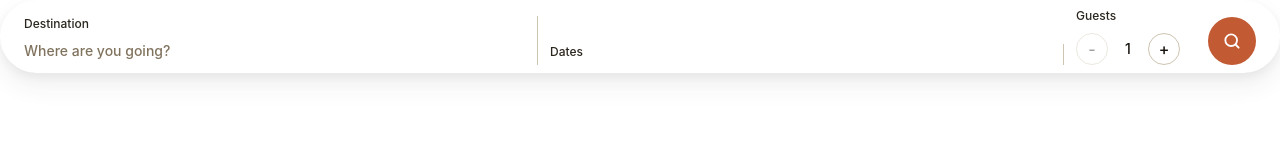
Scenario: SearchBar › guests: minus button decreases guests count
The image size is (1280, 160).
Click the button with test id "guests-increase".
click(1164, 49)  # box 1148,33 -> 1180,65
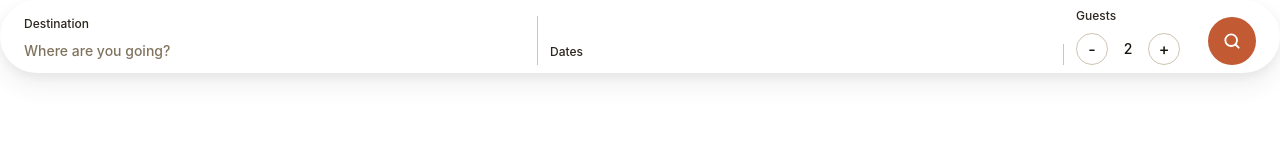
Click the button with test id "guests-decrease".
click(1092, 49)  # box 1076,33 -> 1108,65
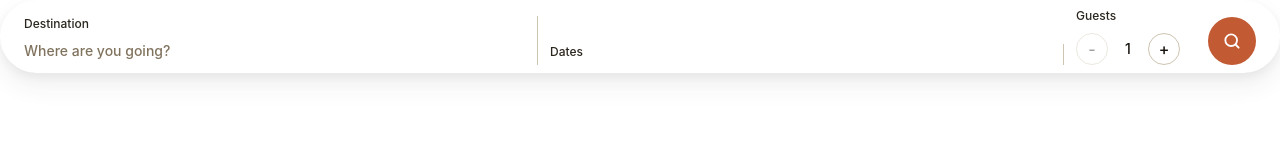
Expected: the text with test id "guests-value" reads "1", 1125,40 -> 1131,57
